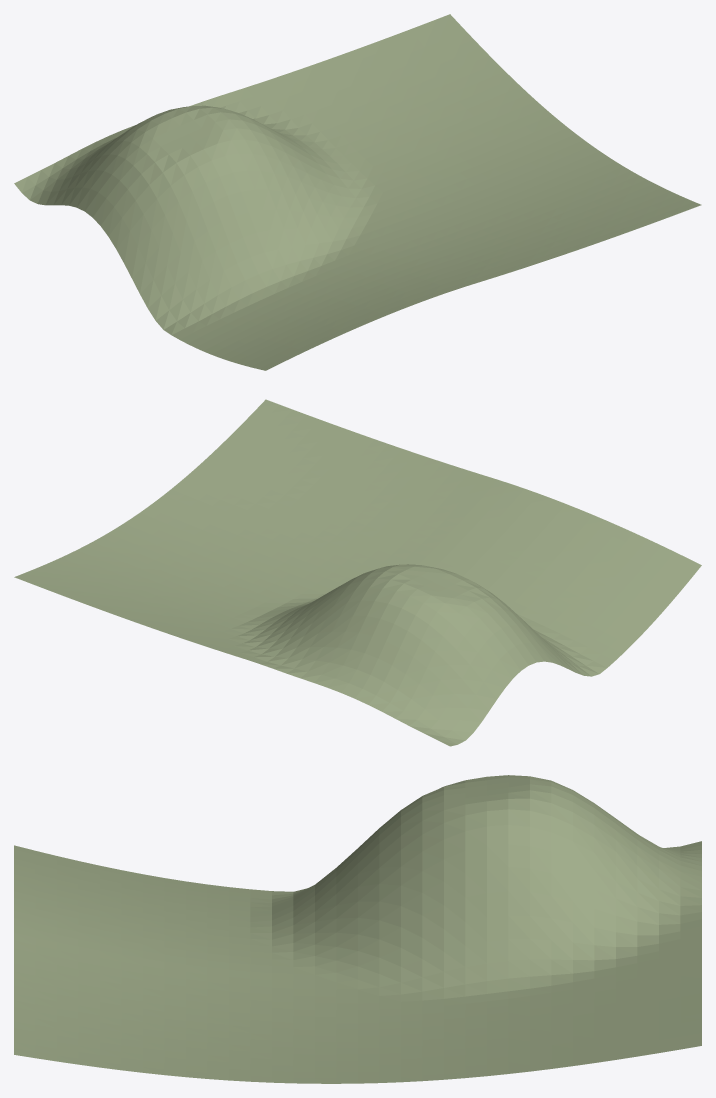
File: expanse-26-10.glb
The picture shows the model from 3 angles, top to bottom: view 1: azimuth 30°, elevation 25°; view 2: azimuth 150°, elevation 25°; view 3: azimuth 270°, elevation 25°; orthographic projection. The views are drawn at different scales.
Parts seen in each view (by area): view 1: expanse-26-10; view 2: expanse-26-10; view 3: expanse-26-10.
Part boxes in pixels (x1,y1,x2,y2): expanse-26-10: (14,14,701,370); expanse-26-10: (14,399,701,746); expanse-26-10: (14,775,701,1083).
Size of the model in its own units: 256 by 71.78 by 256.
